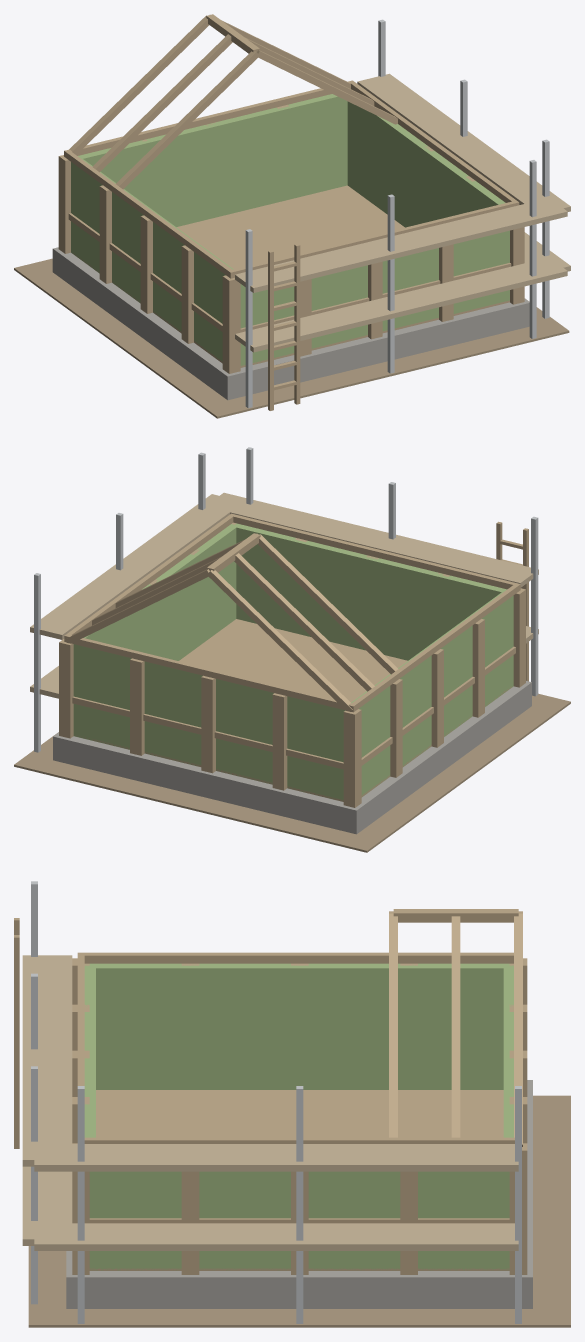
Rendered from orchard_site_8.glb.
The picture shows the model from 3 angles, top to bottom: view 1: azimuth 30°, elevation 25°; view 2: azimuth 150°, elevation 25°; view 3: azimuth 270°, elevation 25°; orthographic projection. The views are drawn at different scales.
Visible parts, largest first — view 1: body; view 2: body; view 3: body.
Part boxes in pixels (<box>): body: <box>14,14,570,418</box>; body: <box>14,447,570,852</box>; body: <box>14,881,570,1327</box>.
Bounding box in the file's own units: 1.88 × 1.14 × 1.91.
